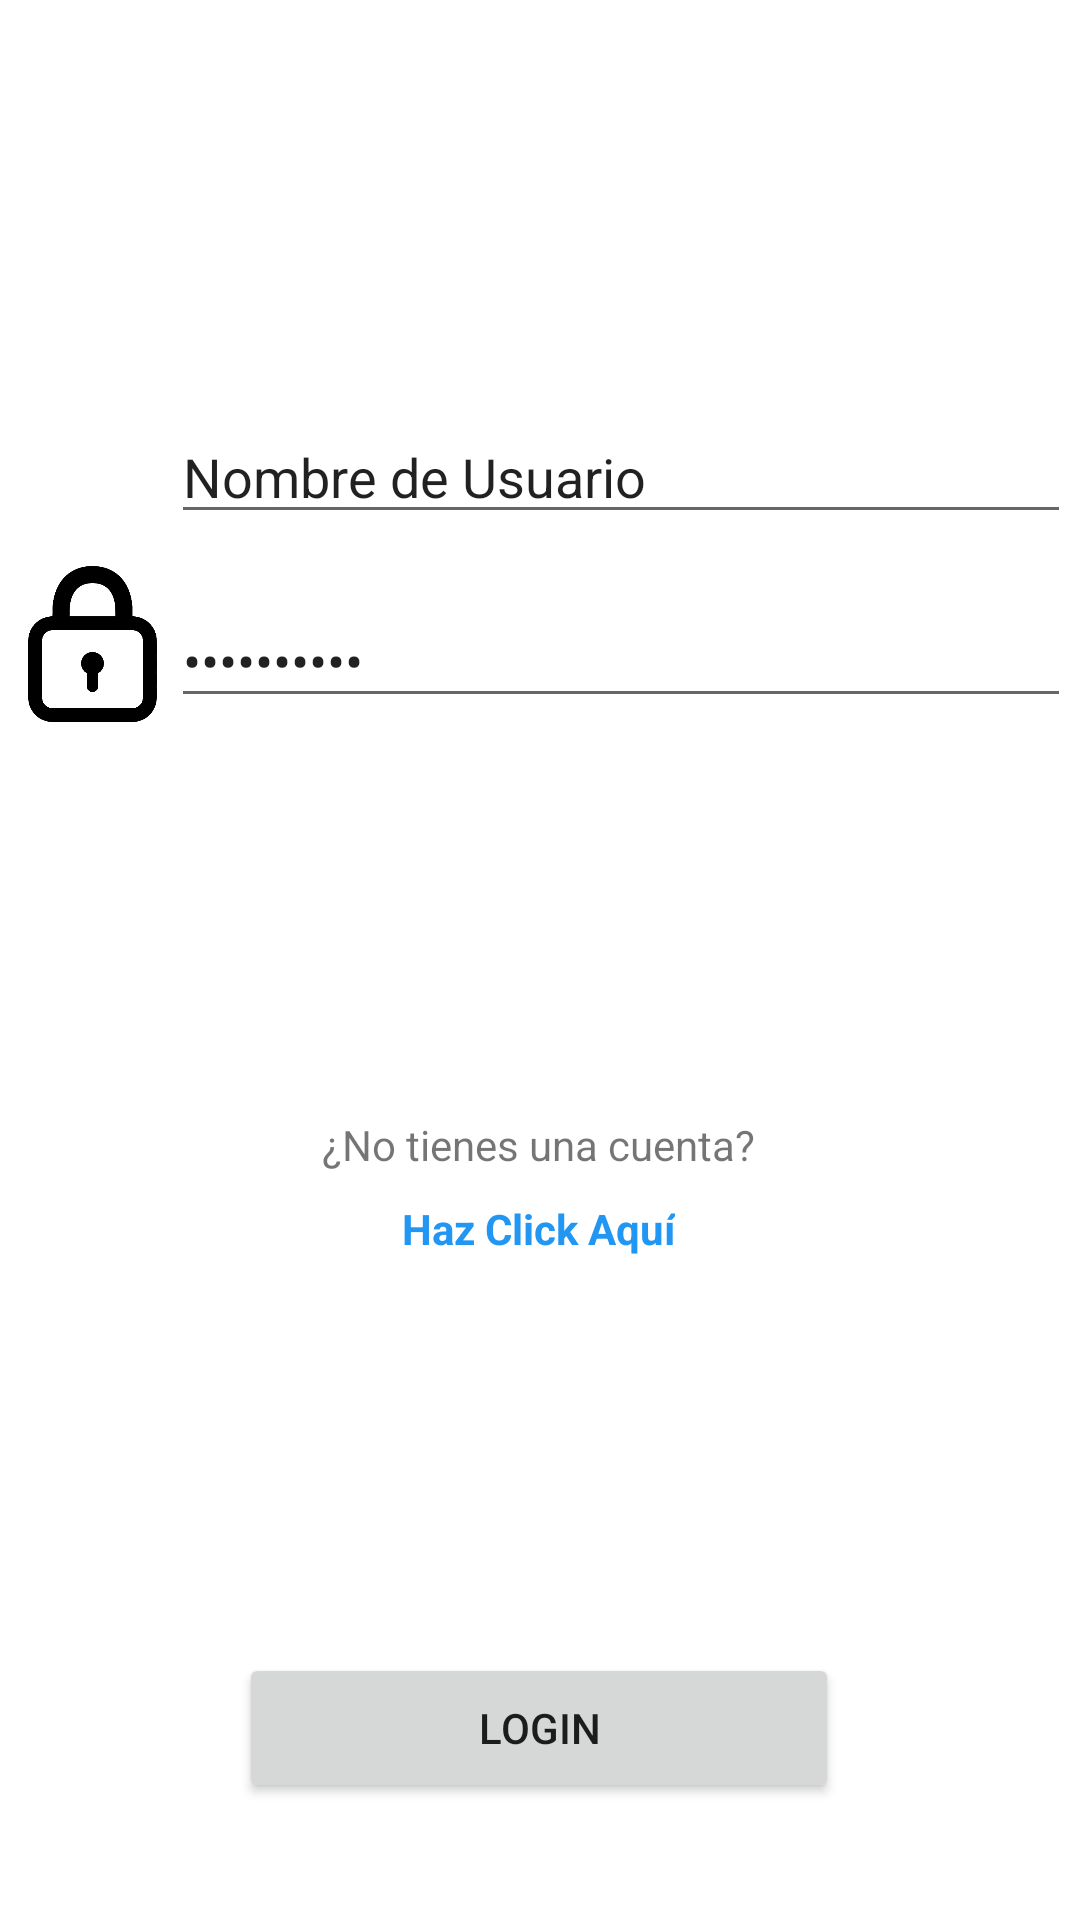

Icons on this 1080 x 1920 Android screen, each with the point to tap as (x,y):
lock: (92,644)
